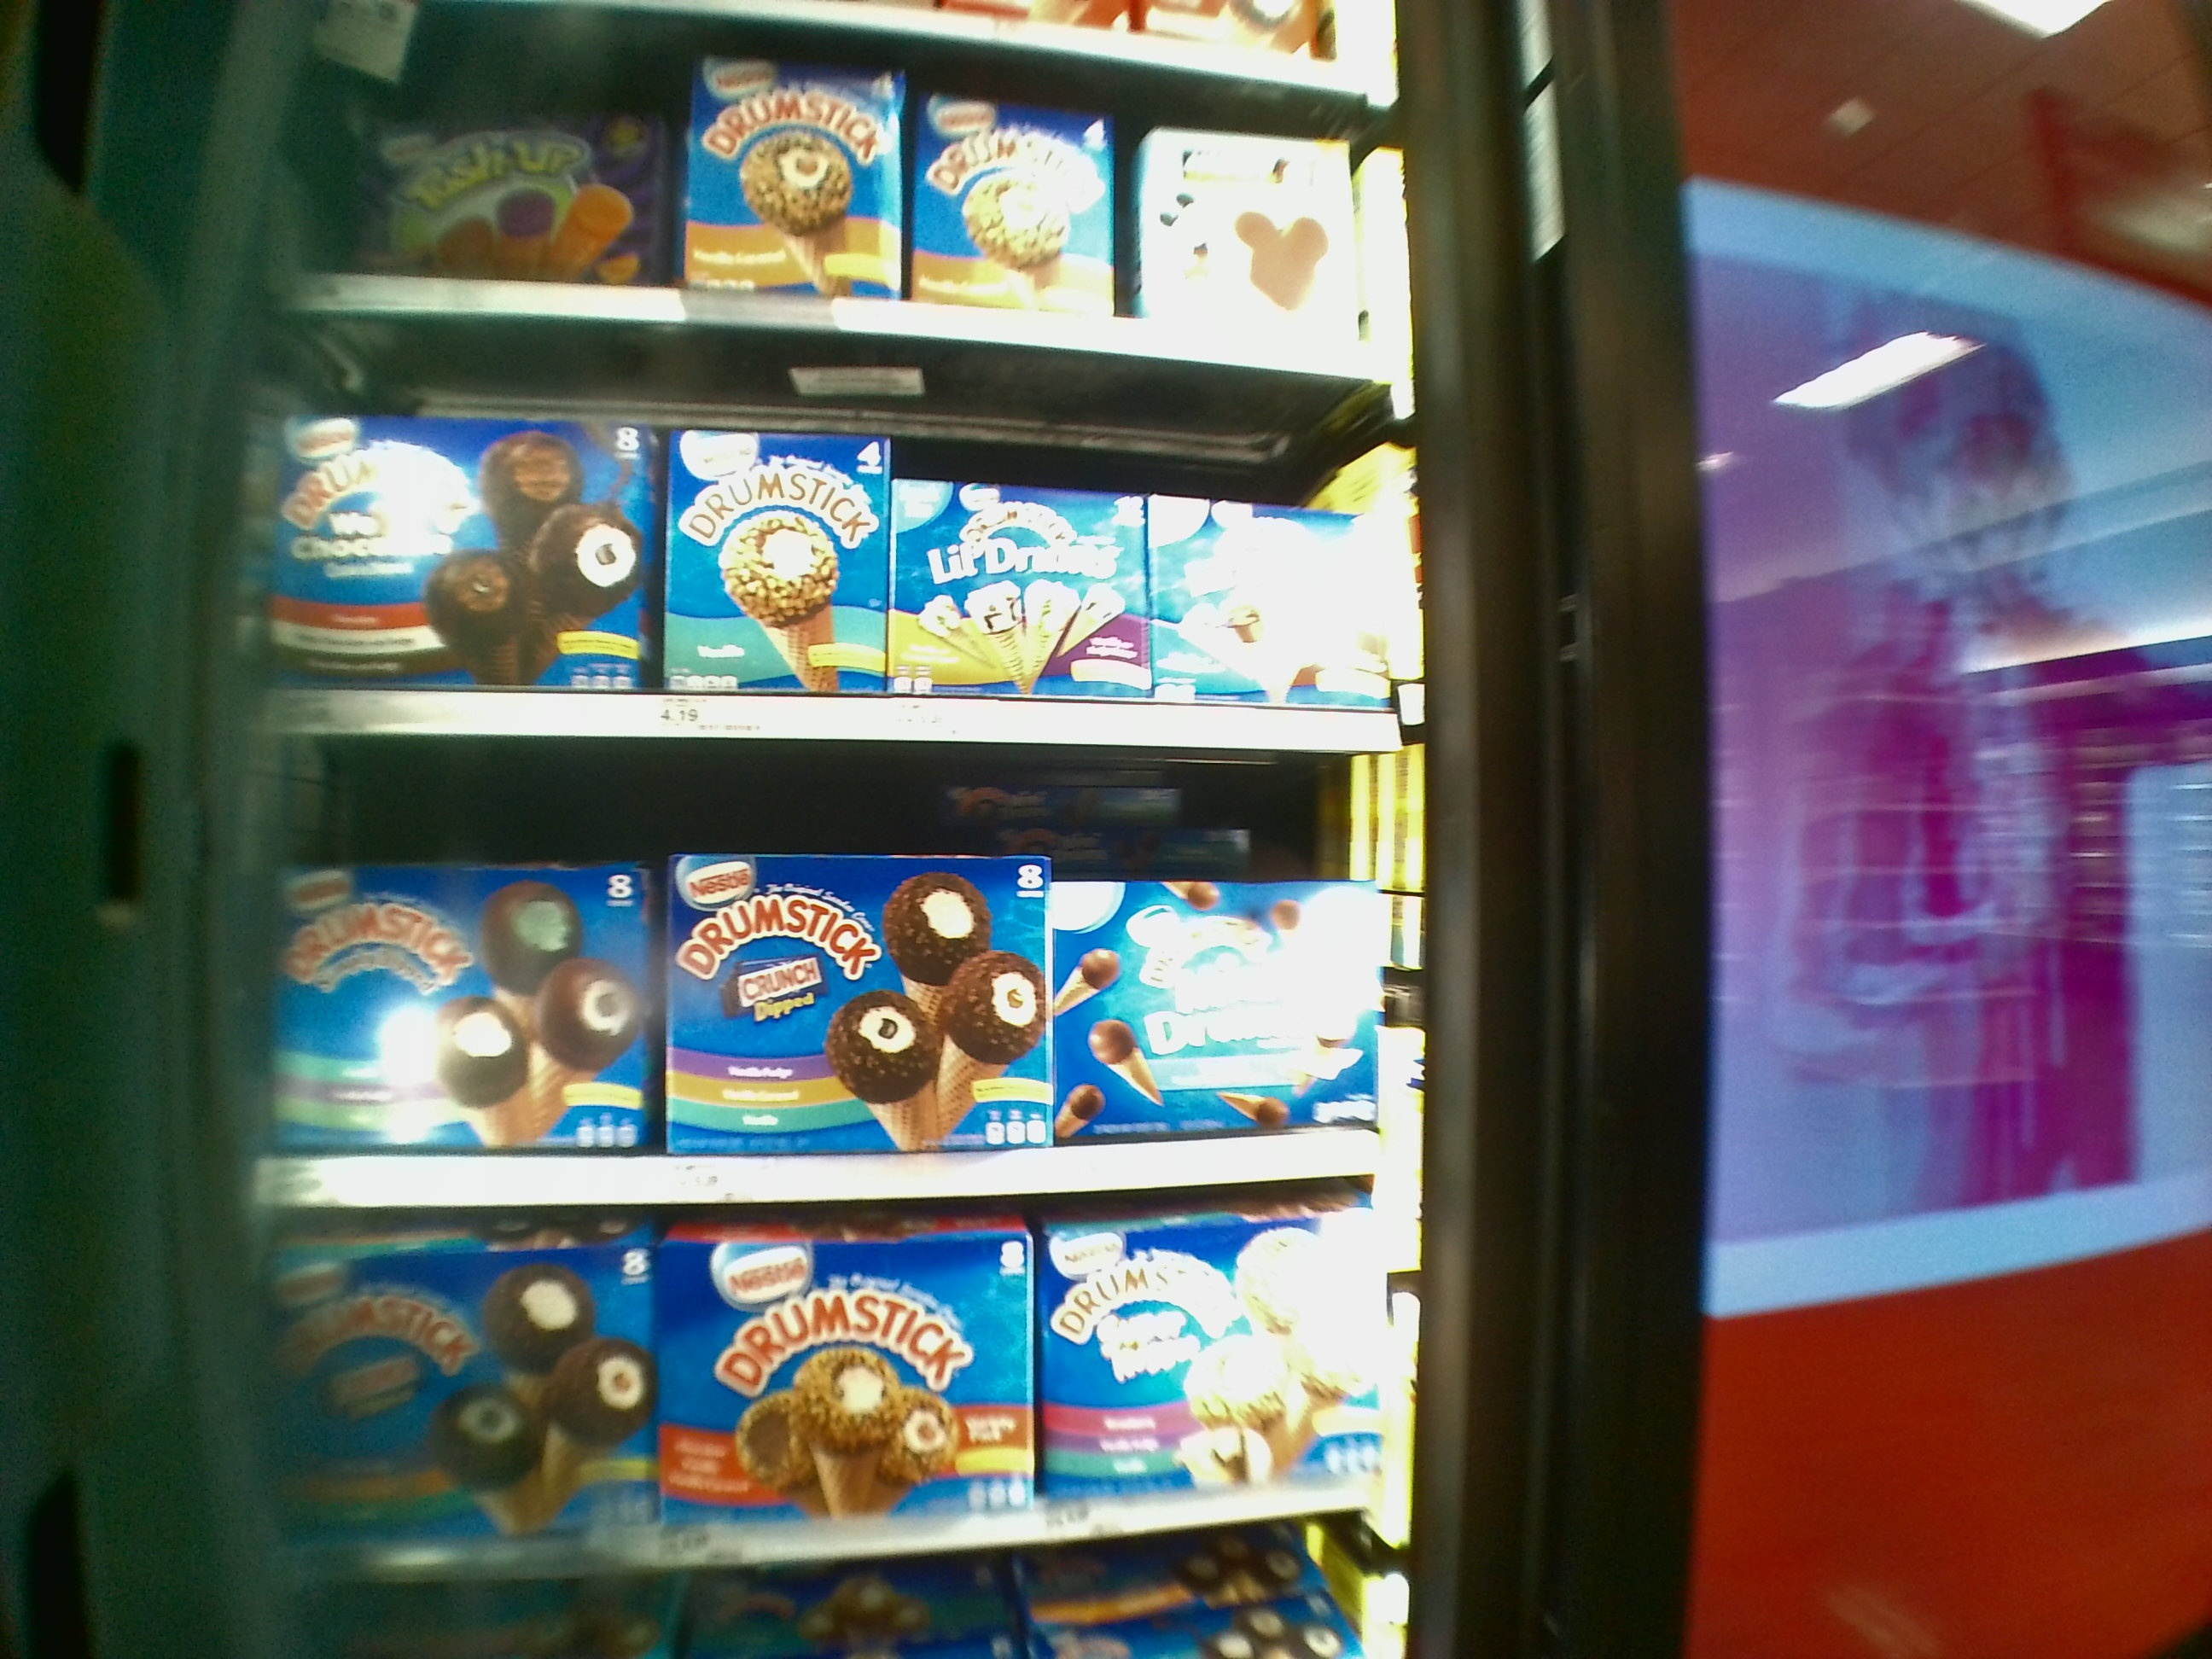shelf: (258, 737, 1409, 1202), (266, 354, 1395, 749), (272, 1208, 1411, 1596)
